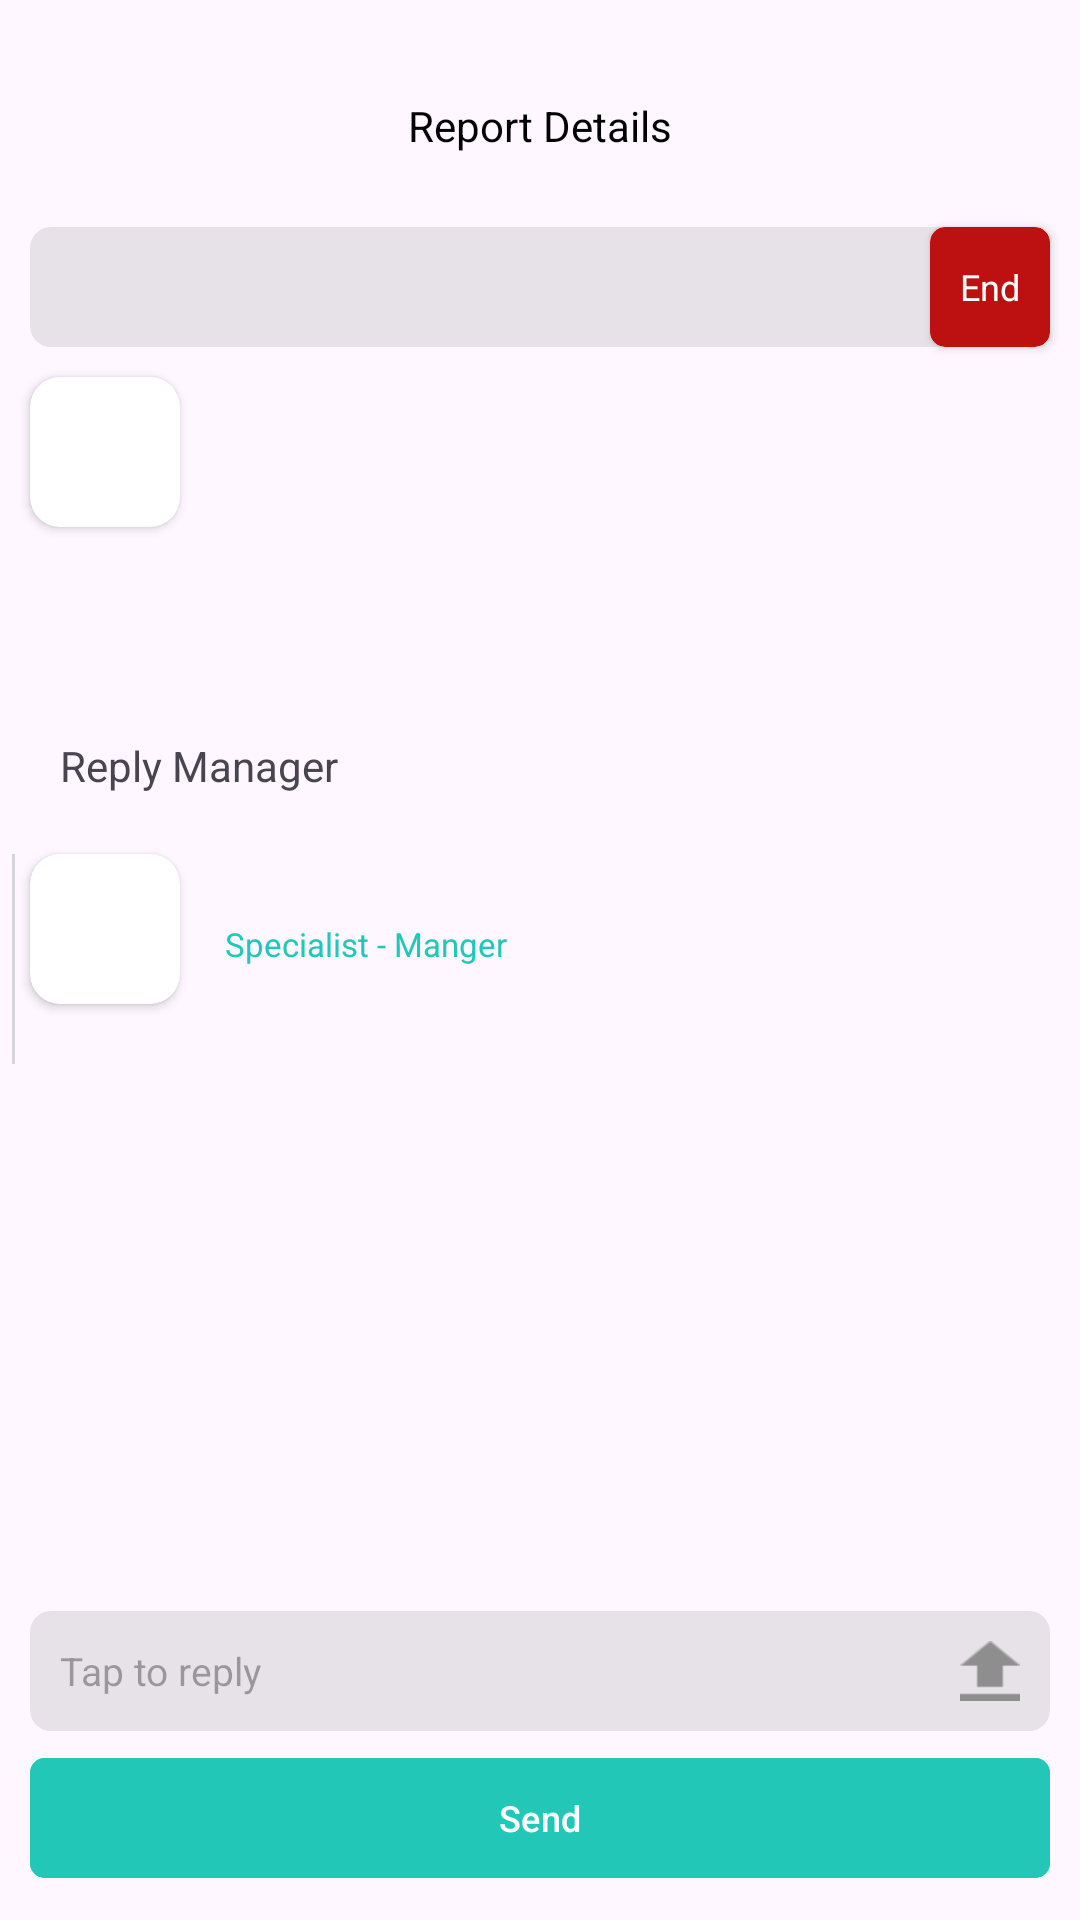

Icon click points for this 1080px x 1920px phone screenshot, format (x=x, y=y):
file upload: (x=990, y=1671)
